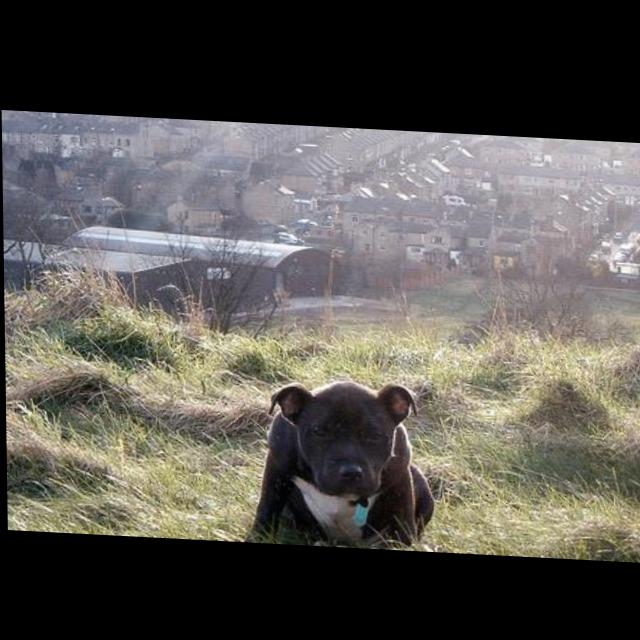staffford: (245, 374, 434, 549)
